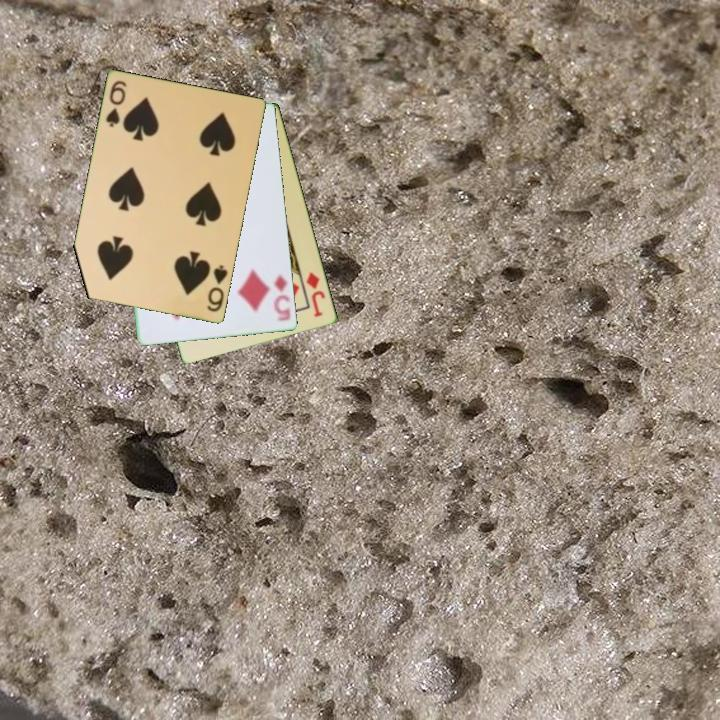5d: (271, 272, 294, 324)
6s: (204, 262, 231, 315), (102, 77, 129, 130)
Jd: (303, 269, 328, 320)
